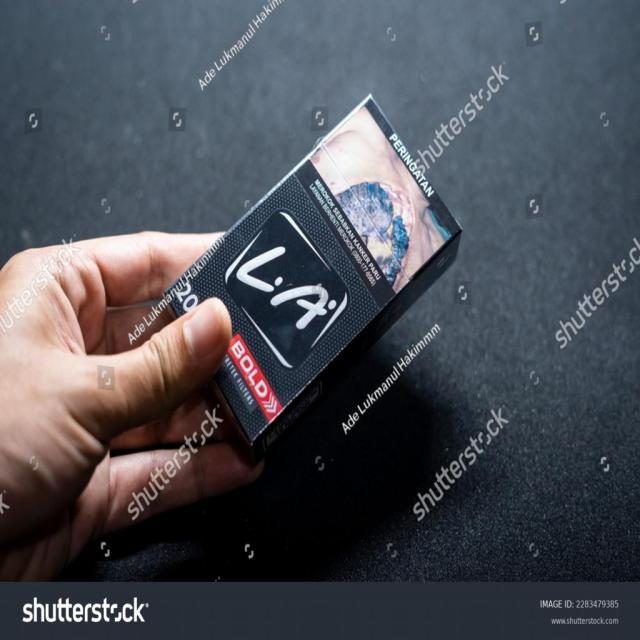smoking: (127, 92, 500, 462)
